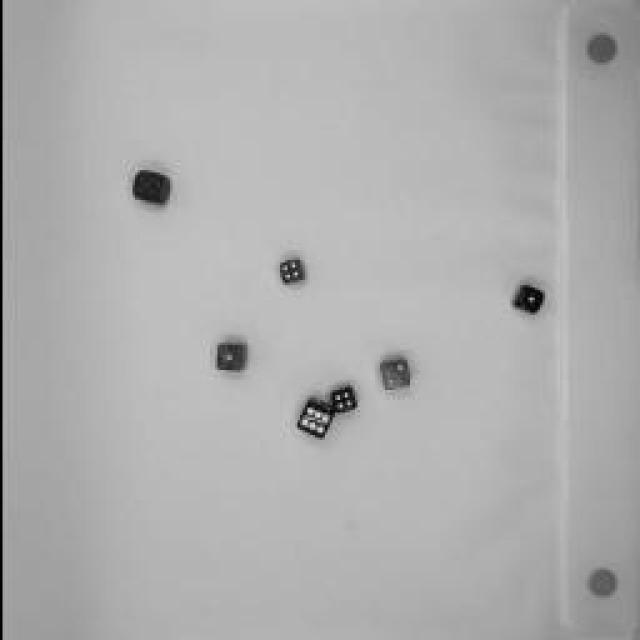dice_1: (208, 335, 250, 380), (506, 280, 546, 320)
dice_2: (370, 352, 415, 398)
dice_4: (271, 255, 309, 295), (322, 382, 358, 418)
dice_5: (122, 165, 176, 217)
dice_6: (290, 398, 338, 442)
